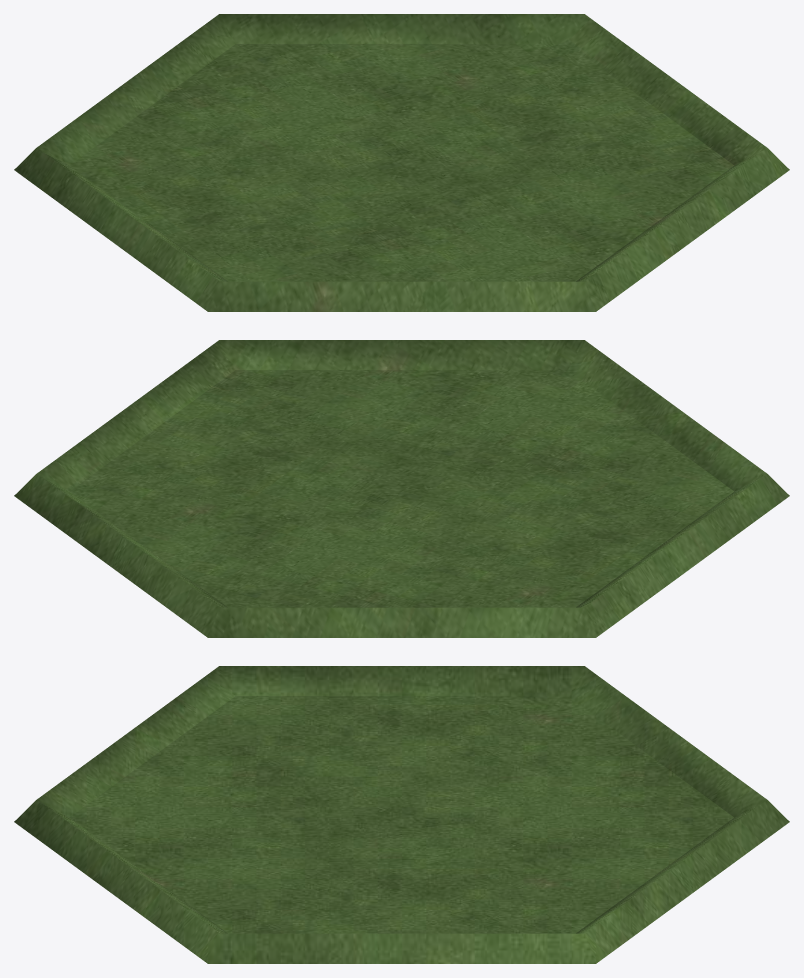
Rendered from plains-2.glb.
The picture shows the model from 3 angles, top to bottom: view 1: azimuth 30°, elevation 25°; view 2: azimuth 150°, elevation 25°; view 3: azimuth 270°, elevation 25°; orthographic projection.
Parts seen in each view (by area): view 1: HexagonTile.016; view 2: HexagonTile.016; view 3: HexagonTile.016.
Part boxes in pixels (bbox=[...]): HexagonTile.016: bbox=[14, 14, 789, 311]; HexagonTile.016: bbox=[14, 340, 789, 637]; HexagonTile.016: bbox=[14, 666, 789, 963].
Size of the model in its own units: 1.73 by 0.0631 by 2.
1 material, 1 textured.
